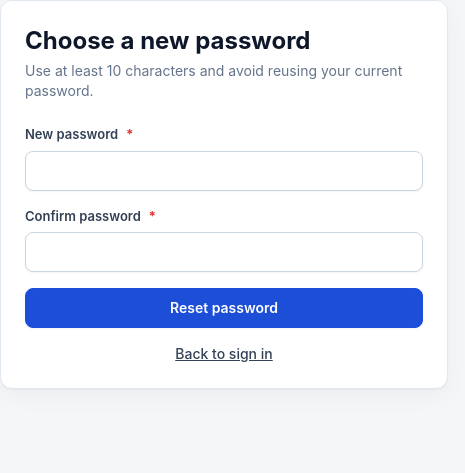
Test: submits the reset token and matching new password
The image size is (465, 473).
Type "DifferentStrongPass456!" into the password field labelled "New password".
click(224, 170); type("DifferentStrongPass456!")  # box [25,150,423,190]
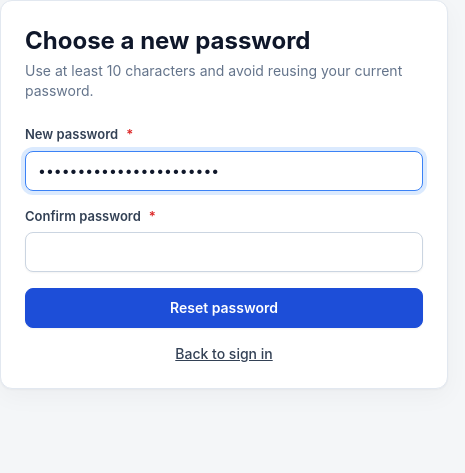
Type "DifferentStrongPass456!" into the password field labelled "Confirm password".
click(224, 252); type("DifferentStrongPass456!")  # box [25,232,423,272]
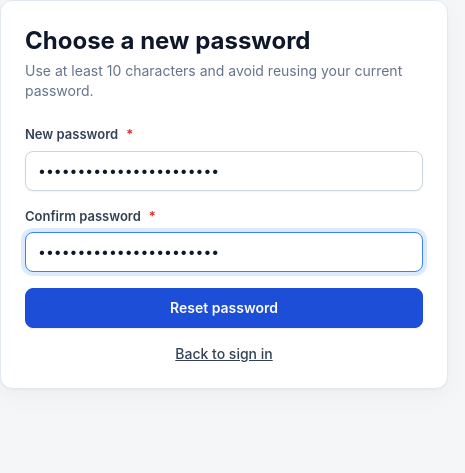
Click the button "Reset password".
click(224, 308)  # box [25,288,423,328]
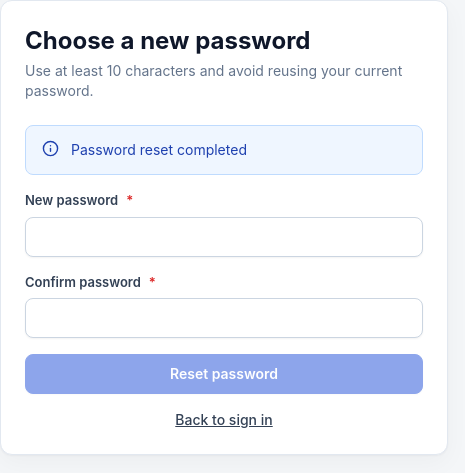
Expected: the text "Password reset completed" is shown, [71,138,247,162]
